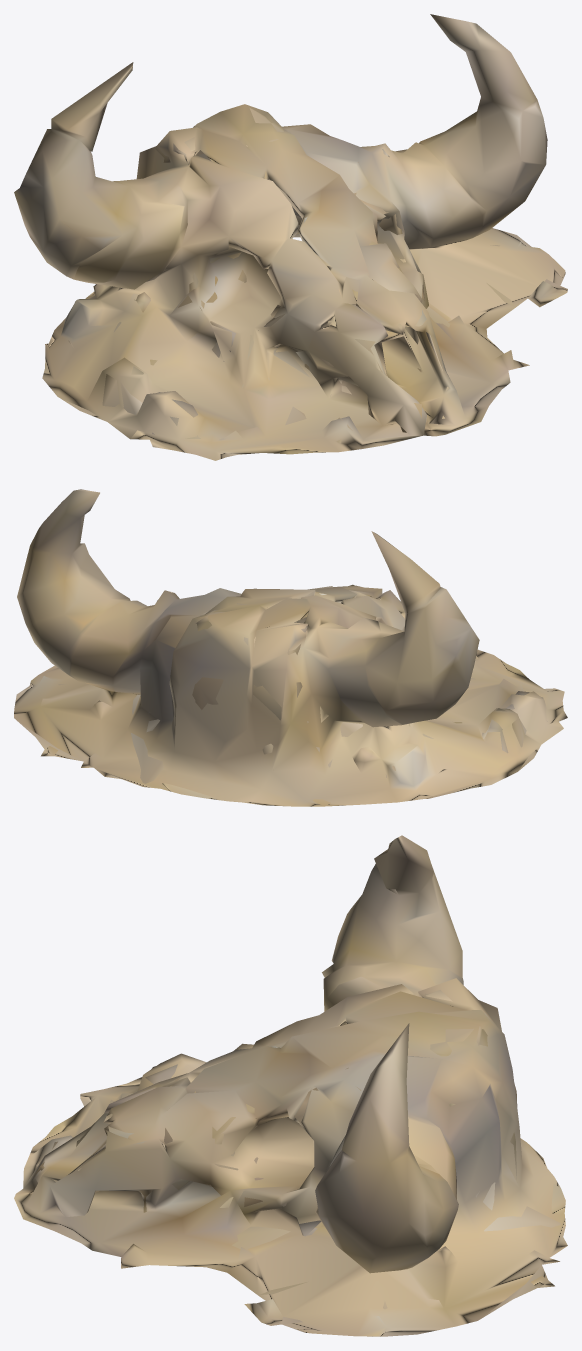
Rendered from GiantSkull_game.glb.
3 renders of one model, top to bottom at view 1: azimuth 30°, elevation 25°; view 2: azimuth 150°, elevation 25°; view 3: azimuth 270°, elevation 25°, orthographic. The views are drawn at different scales.
Parts seen in each view (by area): view 1: GiantSkull; view 2: GiantSkull; view 3: GiantSkull.
Boxes of the visible parts, x1,y1,x2,y2 form: GiantSkull: (14,14,567,460); GiantSkull: (14,489,567,806); GiantSkull: (14,835,567,1336).
Size of the model in its own units: 1.02 by 0.5198 by 0.8814.
